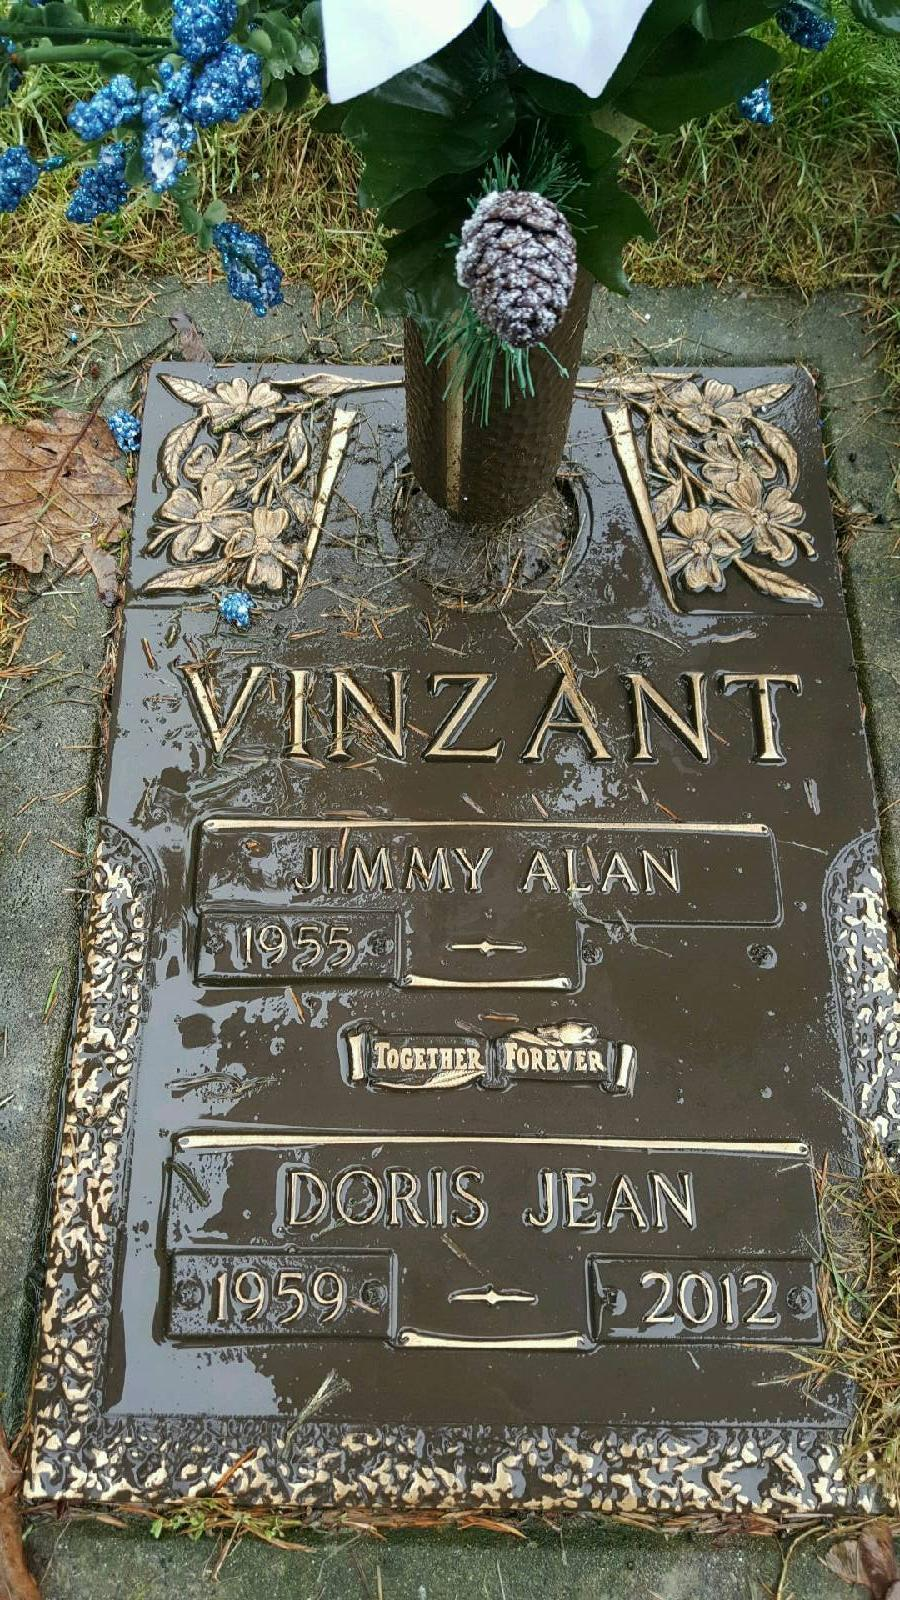flat: (0, 269, 900, 1597)
